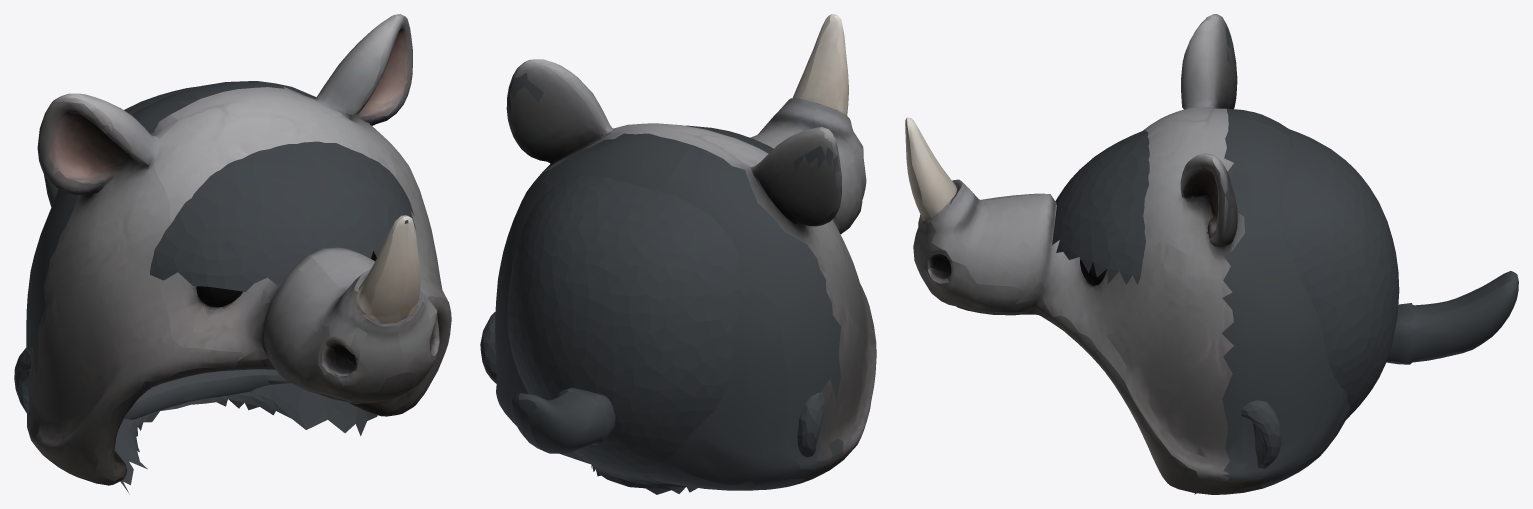
File: rhino.glb
The picture shows the model from 3 angles, left to right: view 1: azimuth 30°, elevation 25°; view 2: azimuth 150°, elevation 25°; view 3: azimuth 270°, elevation 25°; orthographic projection. The views are drawn at different scales.
Visible parts, largest first — view 1: geometry_0, HoodAnatomicalLining; view 2: geometry_0, HoodAnatomicalLining; view 3: geometry_0, HoodAnatomicalLining.
Part boxes in pixels (x1,y1,x2,y2): geometry_0: (26,14,451,485); HoodAnatomicalLining: (14,86,415,494); geometry_0: (495,14,876,490); HoodAnatomicalLining: (480,125,839,494); geometry_0: (905,14,1518,494); HoodAnatomicalLining: (1052,129,1399,494).
Bounding box in the file's own units: 0.4871 × 0.4853 × 0.7527.
Materials: 2 (1 with a texture image).
